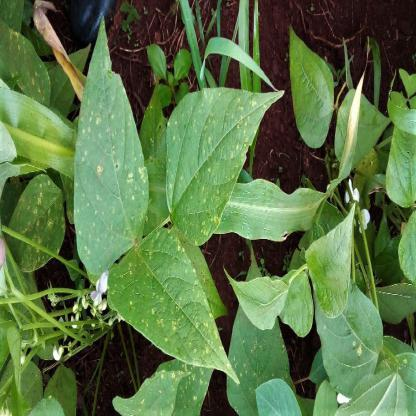Beans_Rust: (110, 224, 240, 385), (166, 72, 282, 249), (70, 41, 148, 258), (227, 244, 295, 416), (112, 359, 216, 416), (8, 172, 60, 274), (0, 22, 49, 104)
